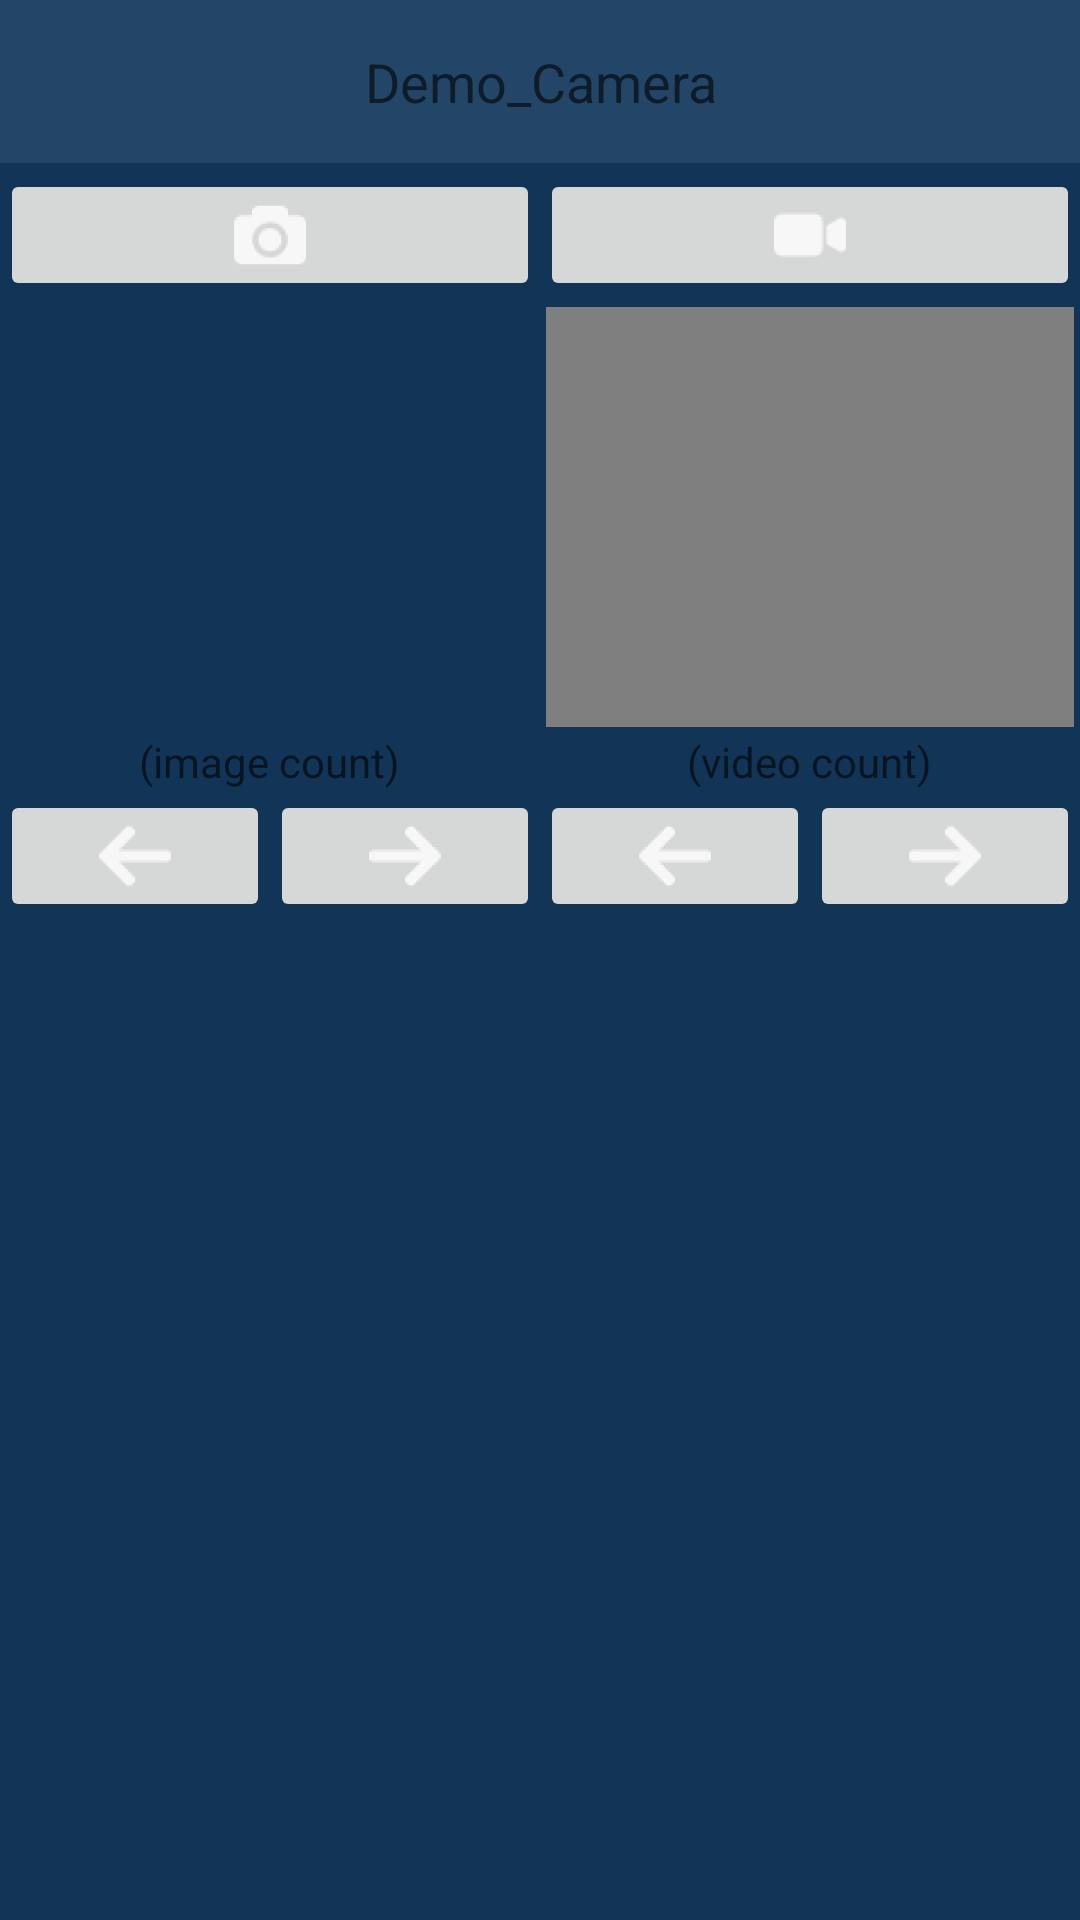

Screen size 1080px×1920px. Icon name, then its center in pixels as (x=x, y=y):
leftarrow: (x=135, y=856), (x=675, y=856)
rightarrow: (x=405, y=856), (x=945, y=856)
